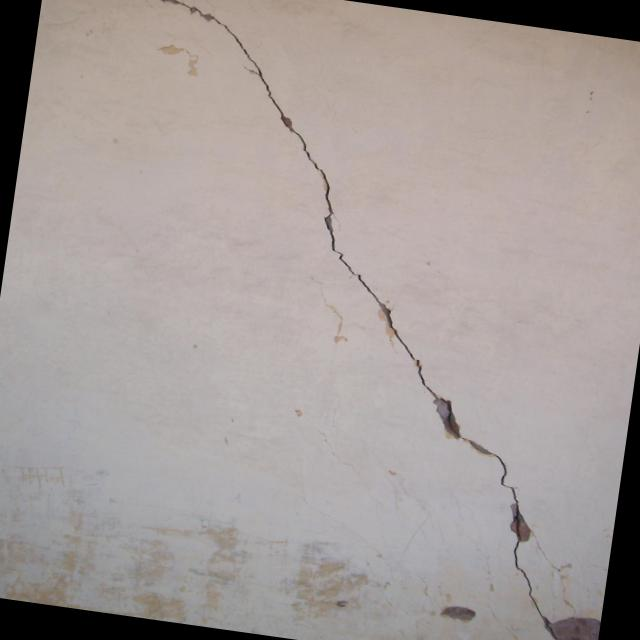crack: (163, 0, 552, 633)
